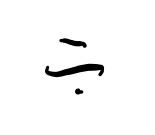div: (44, 34, 104, 95)
